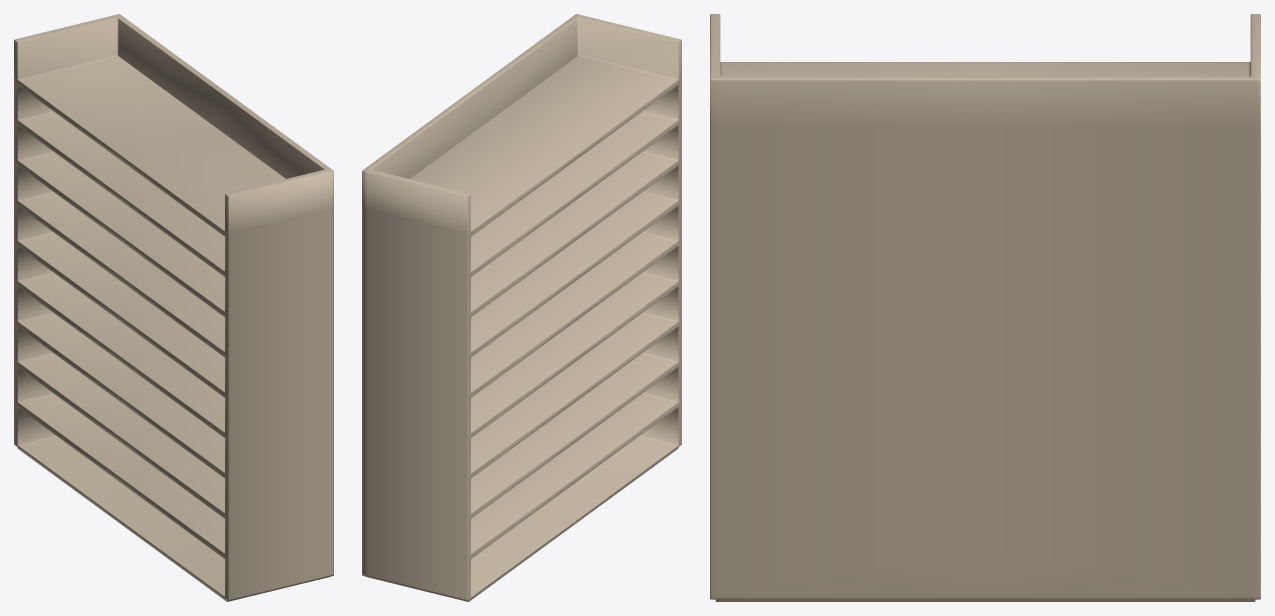
Rendered from Regal_10_Ablage_einseitig.fbx.
The picture shows the model from 3 angles, left to right: view 1: azimuth 30°, elevation 25°; view 2: azimuth 150°, elevation 25°; view 3: azimuth 270°, elevation 25°; orthographic projection. The views are drawn at different scales.
Visible parts, largest first — view 1: Regal2_einseitig; view 2: Regal2_einseitig; view 3: Regal2_einseitig.
Part boxes in pixels (x1=…): Regal2_einseitig: x1=14, y1=14, x2=333, y2=601; Regal2_einseitig: x1=362, y1=14, x2=681, y2=601; Regal2_einseitig: x1=710, y1=14, x2=1260, y2=601.
Size of the model in its own units: 265 by 976 by 932.
